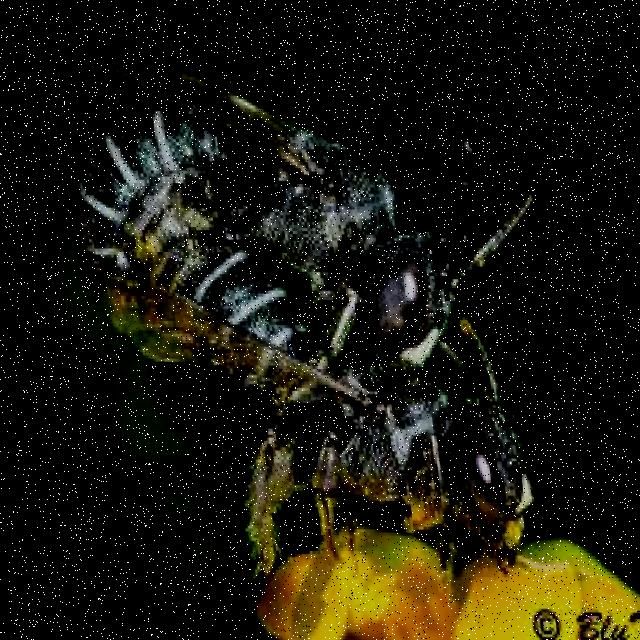Braunsapis: (40, 18, 535, 378), (119, 226, 559, 587)
